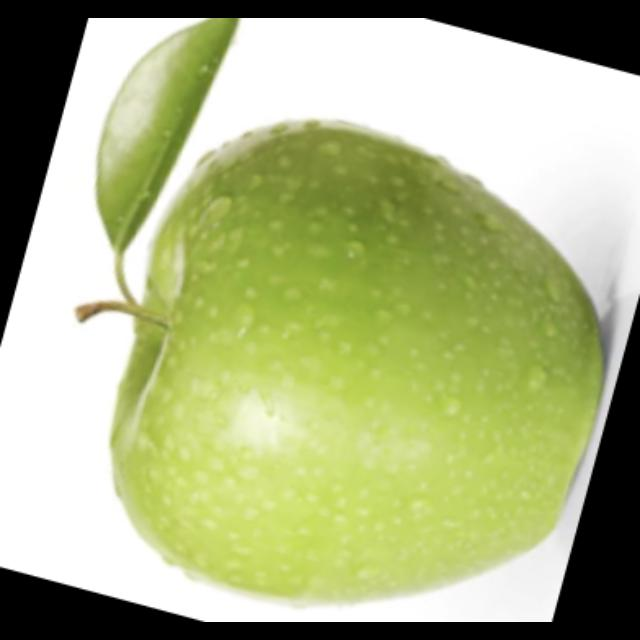Apel Segar: (98, 119, 605, 596)
